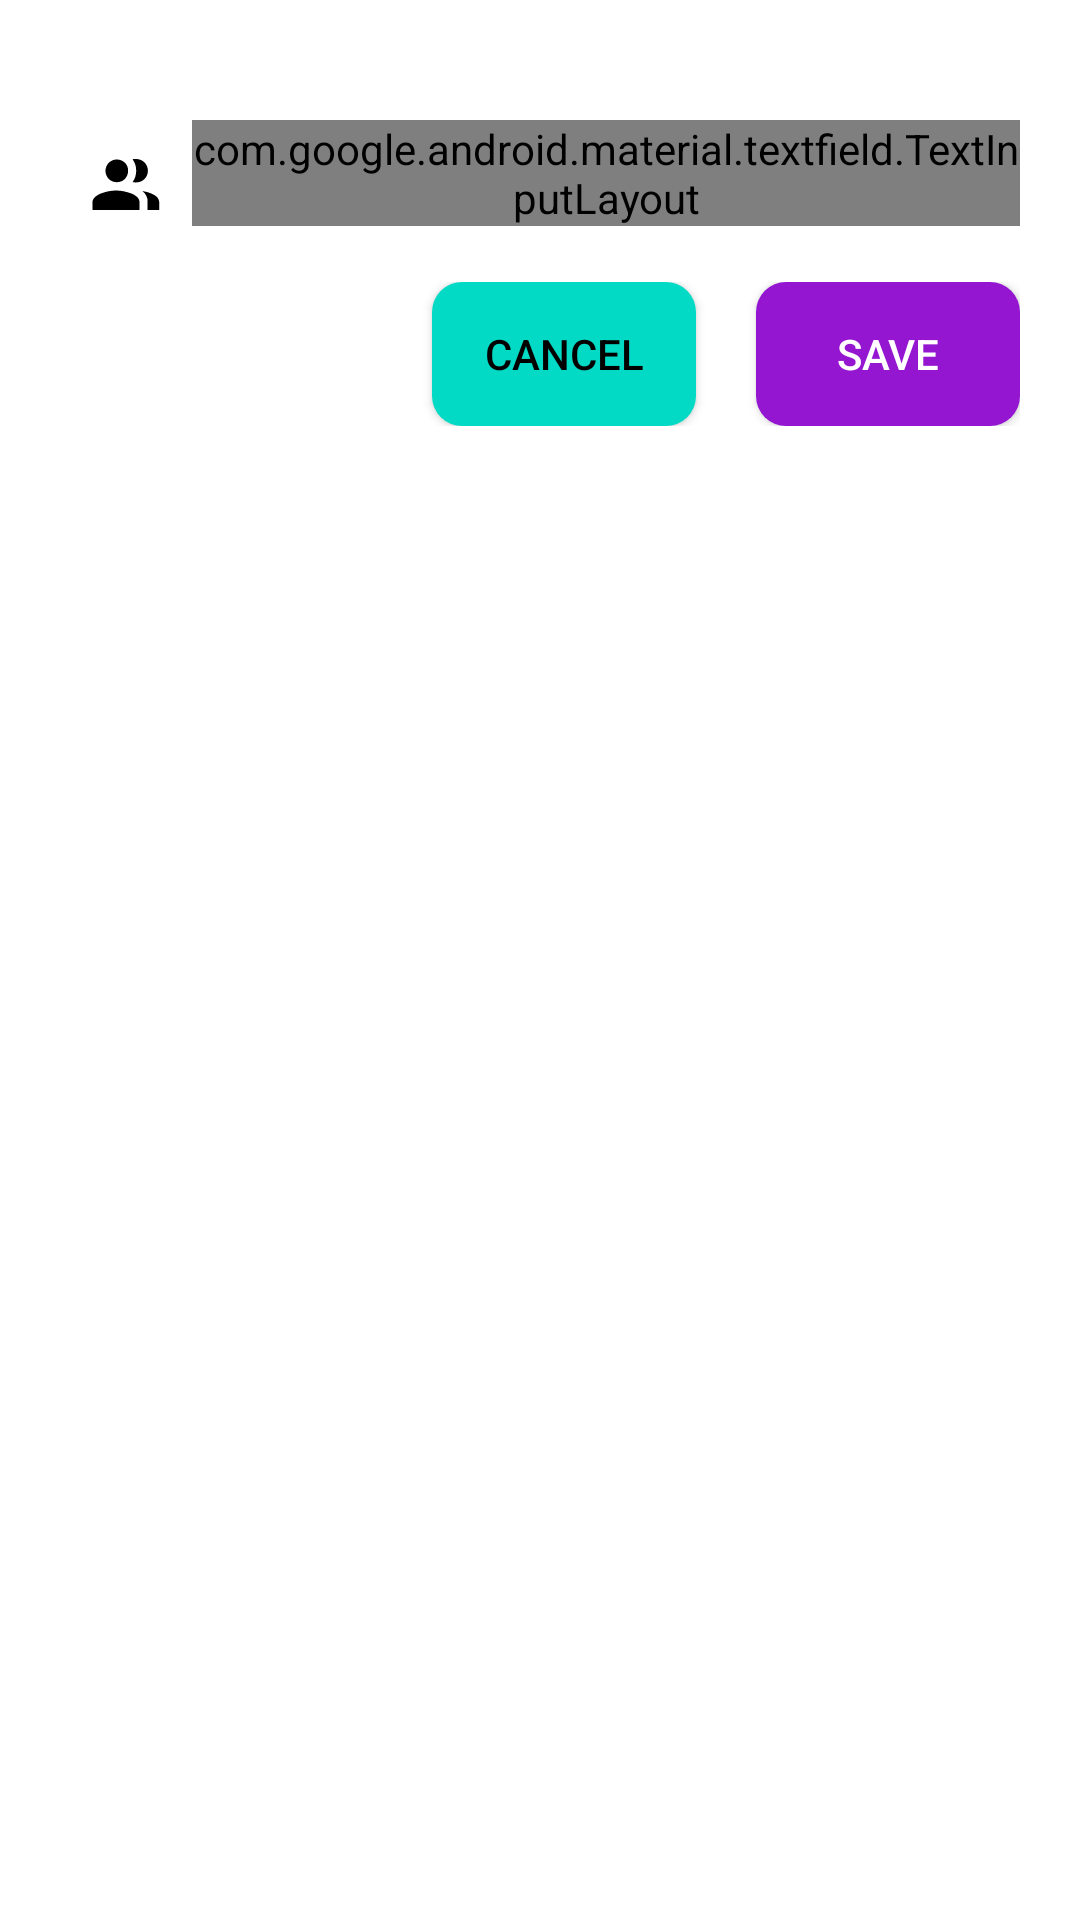

Screen size 1080 × 1920. Icon name, then its center in pixels as (x,y):
contacts: (126,184)
